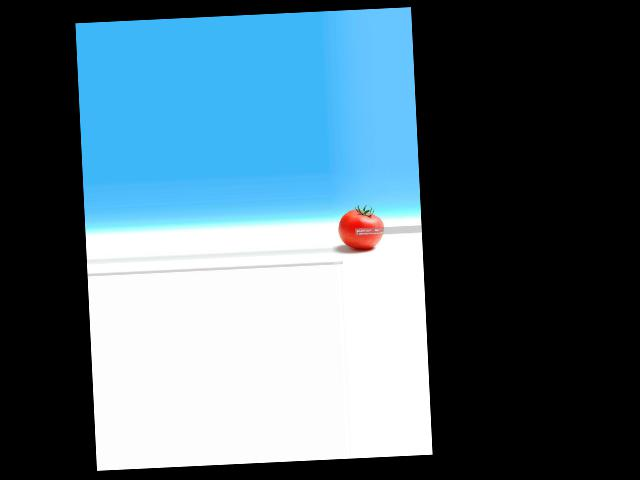tomato: (338, 208, 385, 249)
